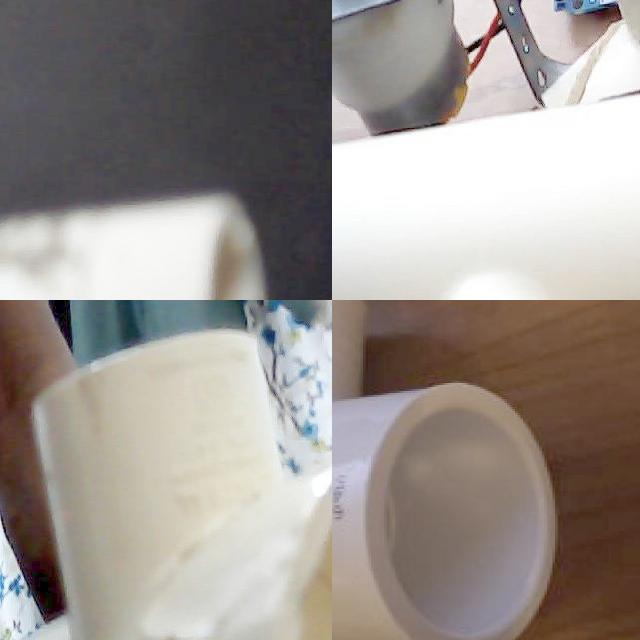Defective: (128, 529, 262, 640)
L Joint: (332, 300, 559, 640), (0, 191, 270, 300)
T Joint: (332, 93, 640, 300)
